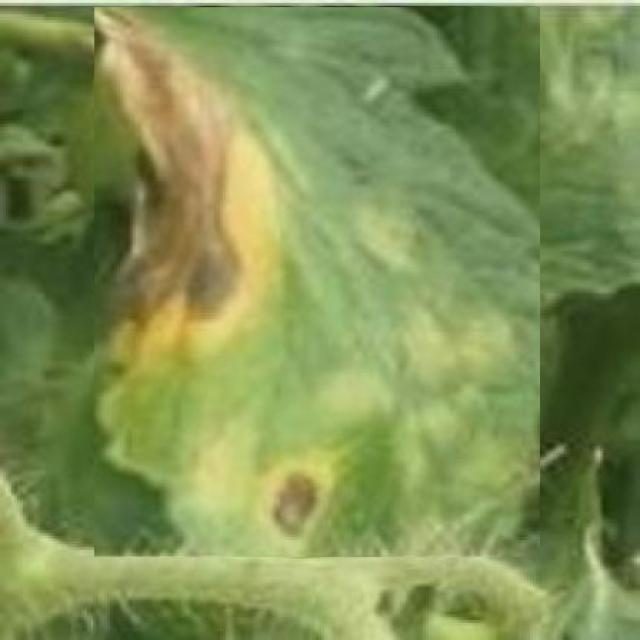Late Blight: (94, 7, 540, 557)
